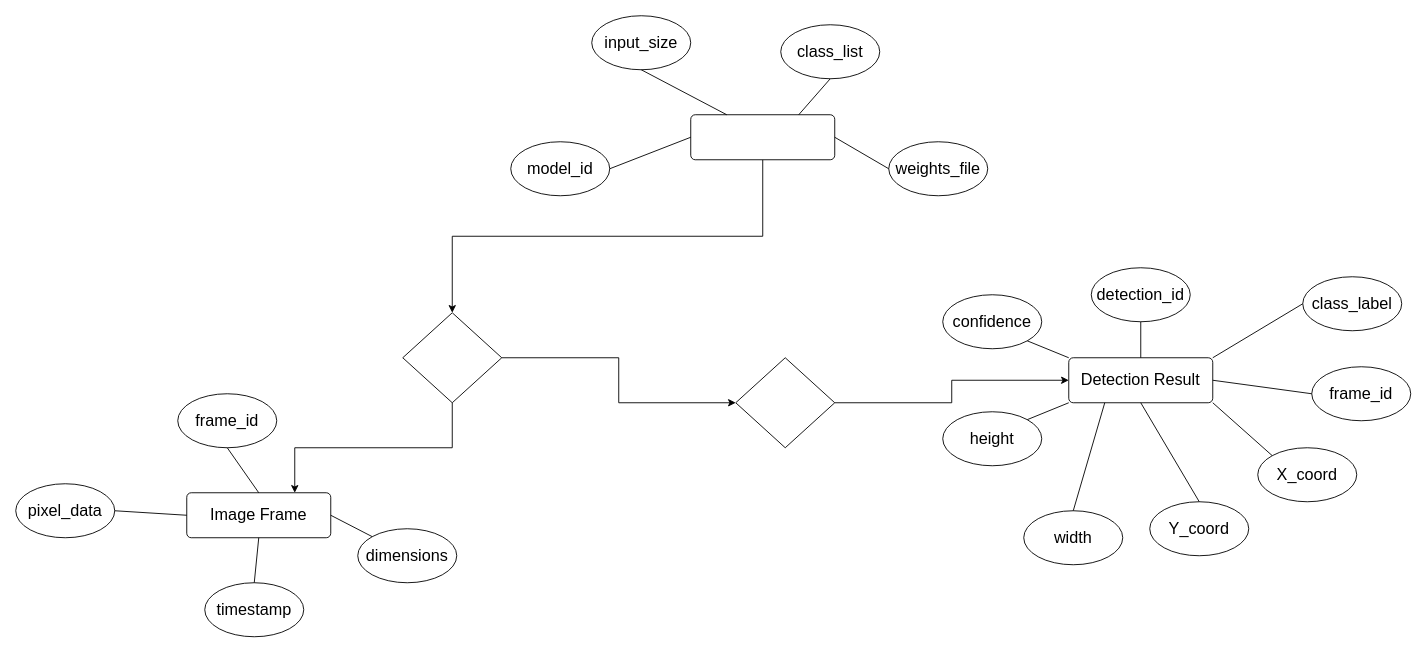
The diagram is 1427 pixels wide and 653 high, and some of its shapes have lost their labels. Each missing label, with the centre of its shape:
"Generates" belongs at [785,402].
"Is Processed By" belongs at [452,357].
"YOLO Model" belongs at [762,137].
